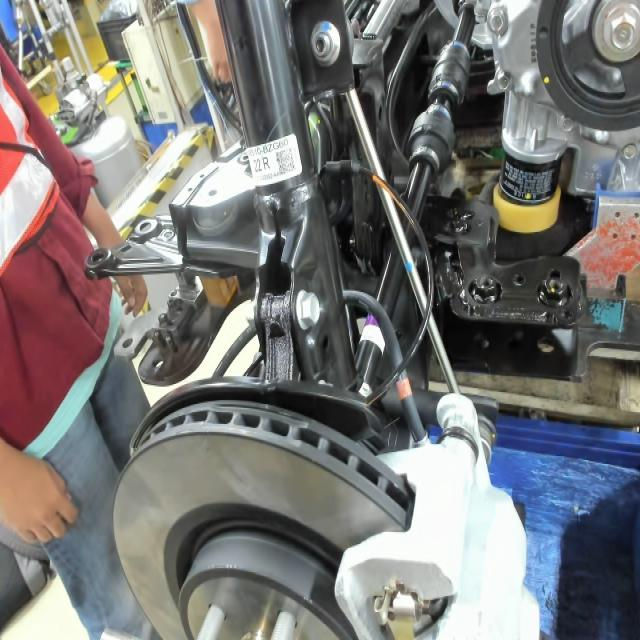Absorber RH-22: (250, 138, 298, 184)
Disc-HT: (158, 491, 355, 640)
Drive Shaft-UG: (357, 309, 391, 355)
